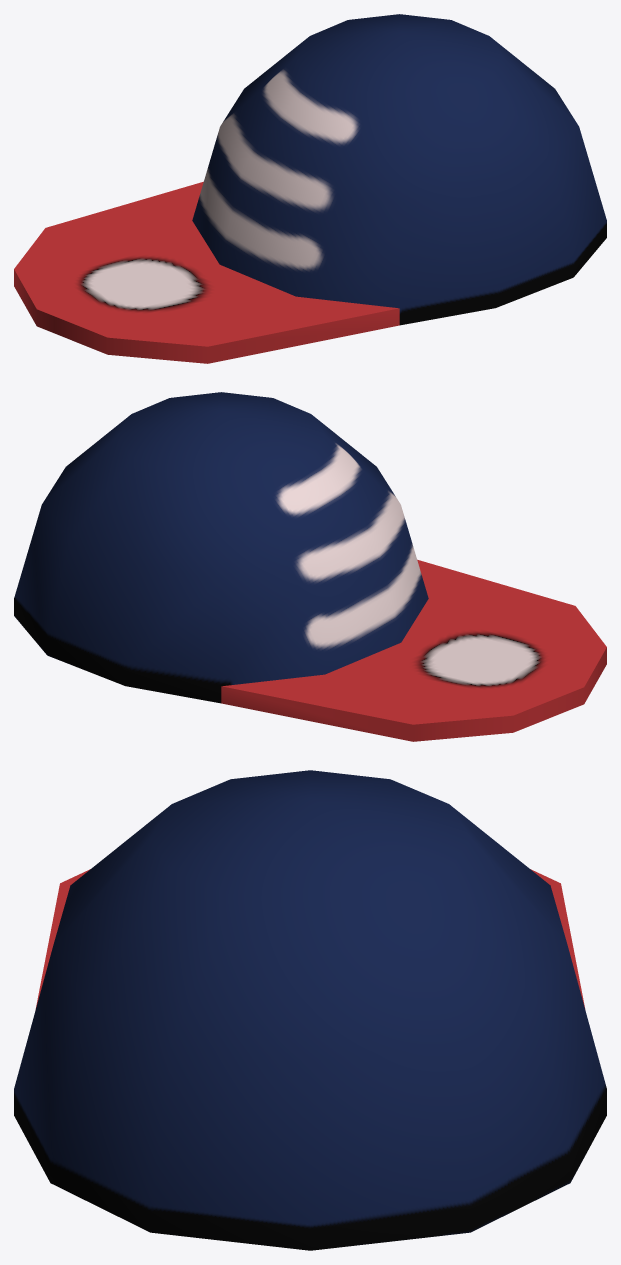
The model's file is Cap.FBX.
3 views of the same model, one above another, from view 1: azimuth 30°, elevation 25°; view 2: azimuth 150°, elevation 25°; view 3: azimuth 270°, elevation 25° (orthographic). The views are drawn at different scales.
Parts seen in each view (by area): view 1: Cap; view 2: Cap; view 3: Cap.
Boxes of the visible parts, x1,y1,x2,y2 form: Cap: (14,14,606,363); Cap: (14,392,606,741); Cap: (14,770,606,1250).
Size of the model in its own units: 64.95 by 23.47 by 39.84.
1 material, 1 textured.
